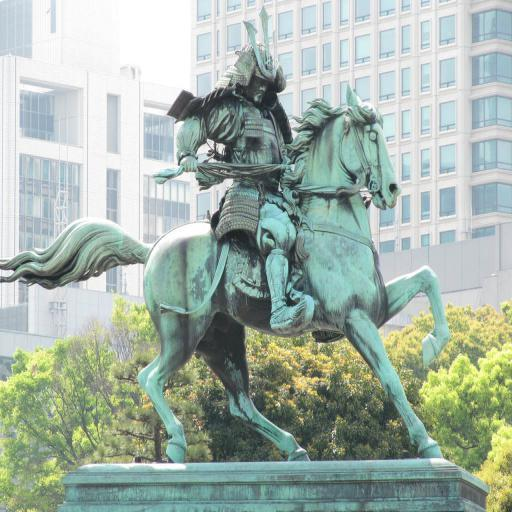horse: (0, 82, 451, 462)
